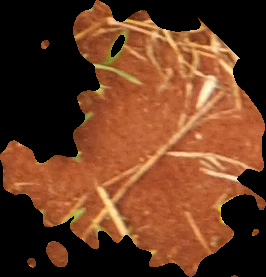soil: (2, 2, 264, 277)
